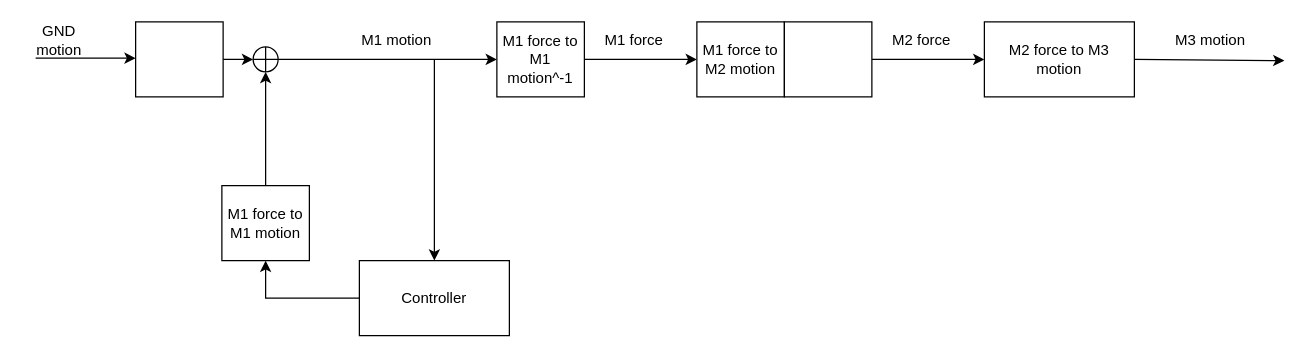
Image size: 1316x358. Some labels were removed from this diagram. Each missing label, with the centre of its shape:
"Ground motion to M1 motion" goes at (x=178, y=59).
"M2 force to M2 motion^-1" goes at (x=827, y=59).
